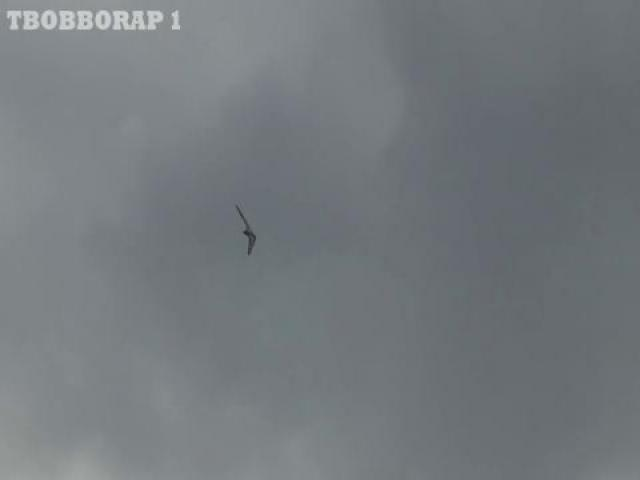flying wing: (233, 198, 260, 258)
